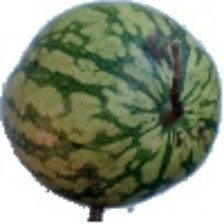watermelon: (48, 10, 213, 187)
